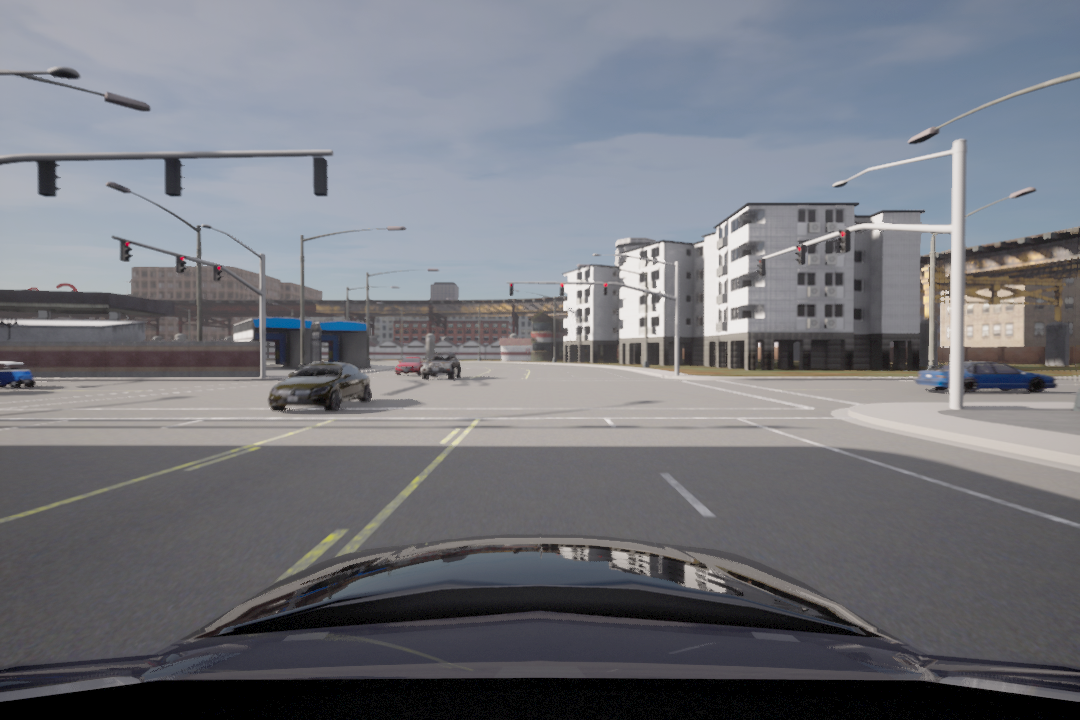TrafficLight: (836, 228, 854, 256), (117, 240, 132, 262), (211, 260, 224, 282), (174, 254, 188, 274), (794, 243, 806, 265), (756, 257, 766, 277), (508, 281, 515, 298), (559, 281, 566, 297), (603, 280, 609, 296)
